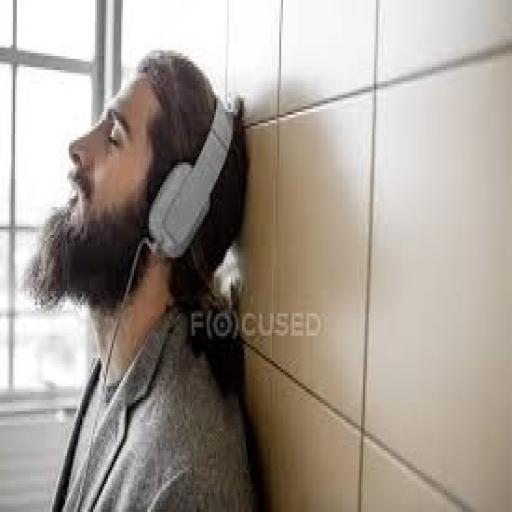listening_to_music: (22, 45, 264, 509)
